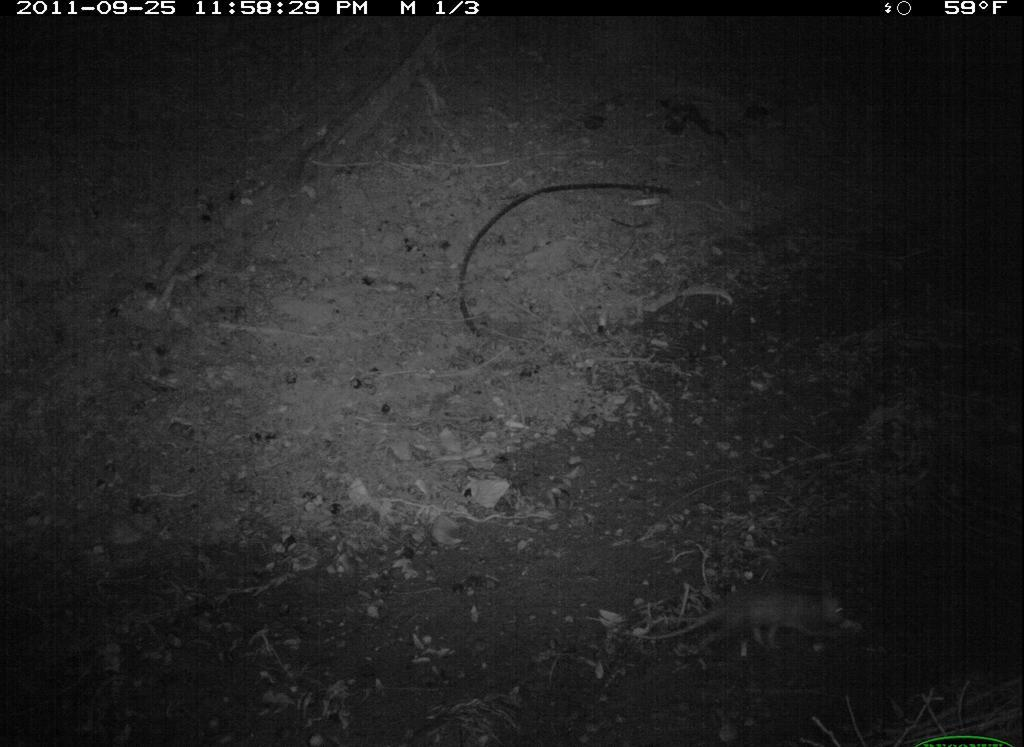opossum: (642, 566, 885, 666)
